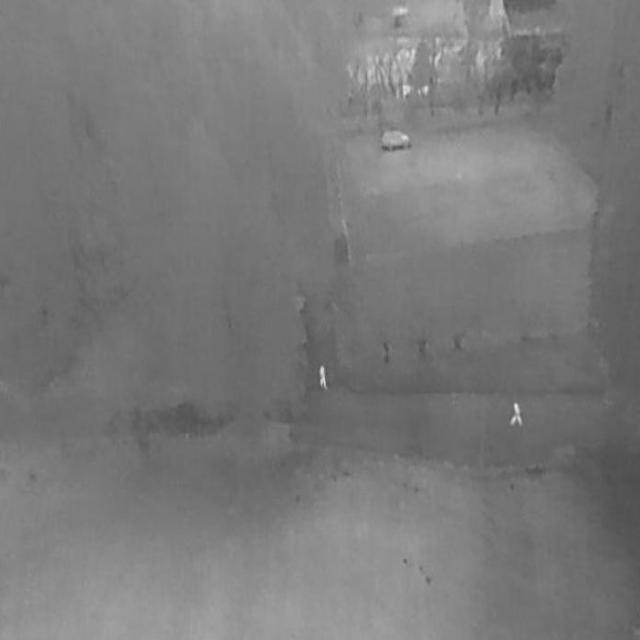person: (509, 401, 524, 429), (318, 364, 330, 394)
